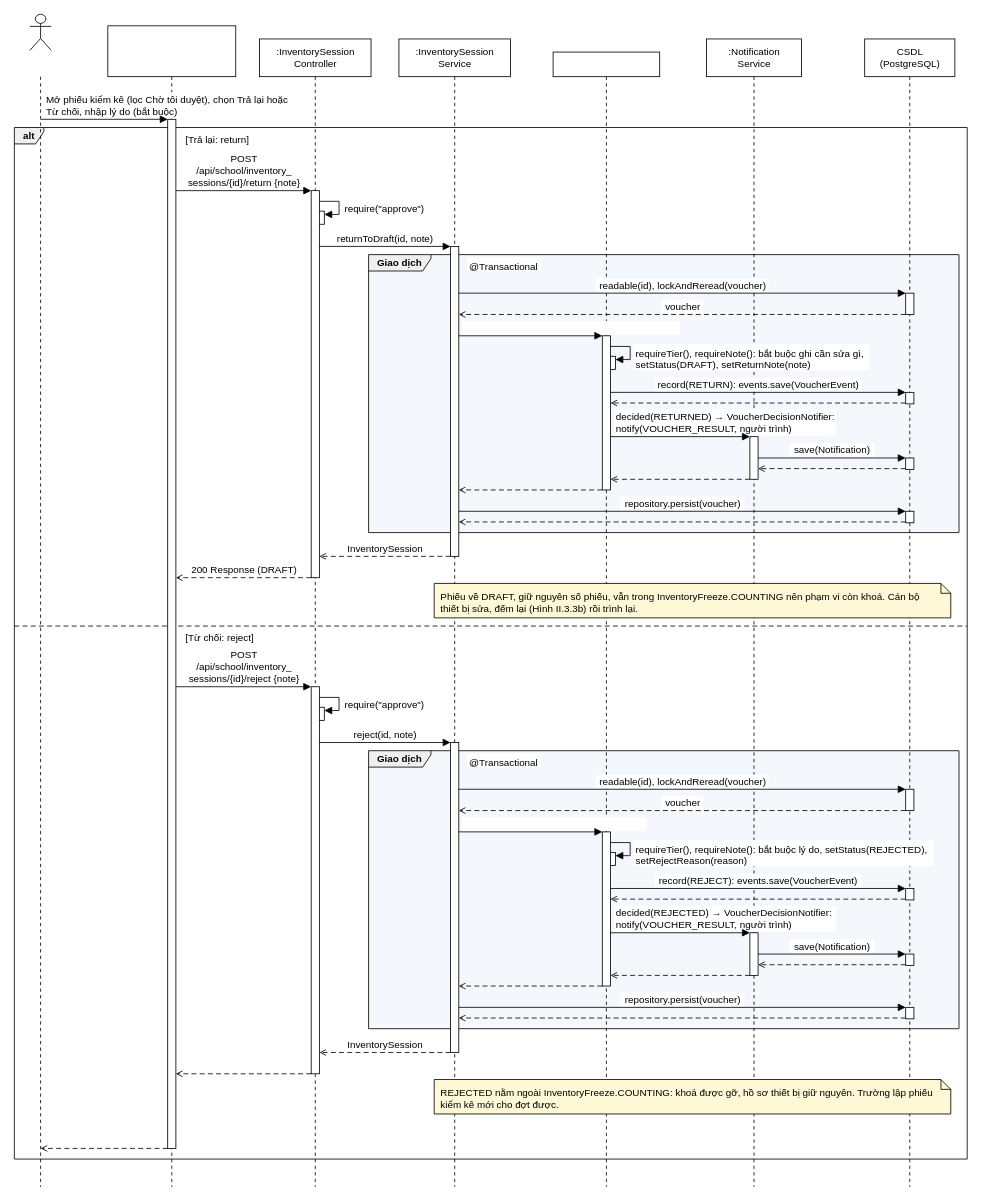
This 982x1202 diagram has some shape labels left out. The shapes that lost their labels are listed below. From the top down, each one's centre as x and y in pixels, then its label:
point 40,32: Lãnh đạo trường
point 171,51: «Giao diện» InventorySessionShow (VoucherActions)
point 606,64: :VoucherWorkflow
point 570,328: workflow.returnToDraft(voucher, resource, note)
point 554,824: workflow.reject(voucher, resource, note)
point 243,1066: 200 Response (REJECTED)
point 104,1134: Phiếu về nháp hoặc bị từ chối
